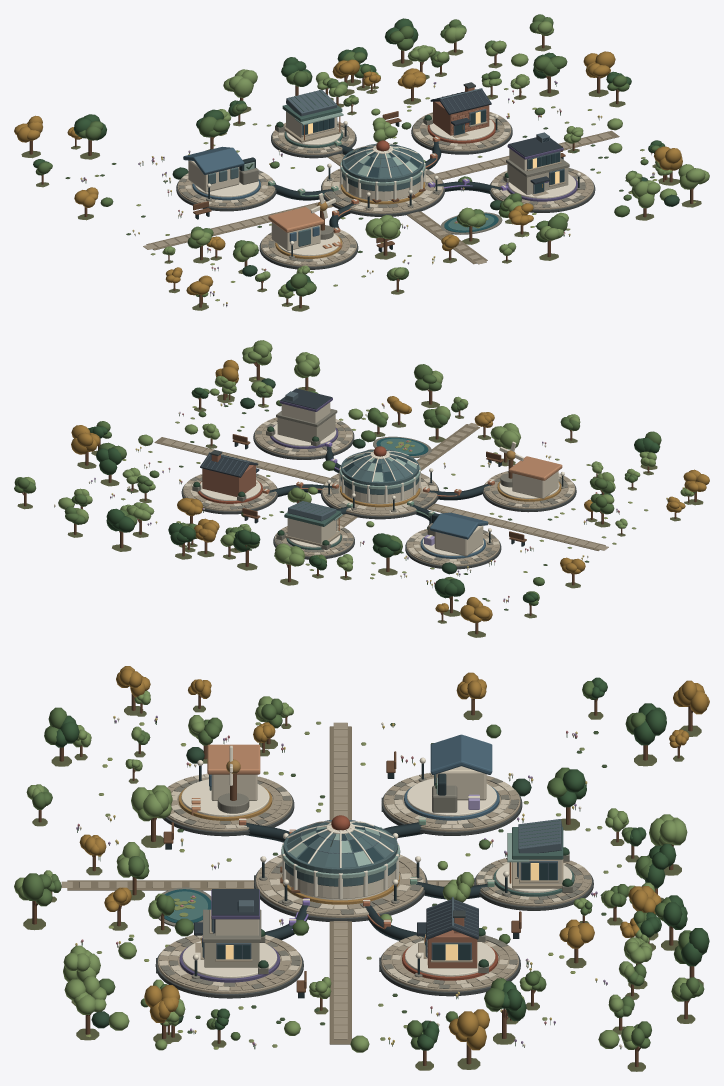
The model's file is task-hall-v2.glb.
3 renders of one model, top to bottom at view 1: azimuth 30°, elevation 25°; view 2: azimuth 150°, elevation 25°; view 3: azimuth 270°, elevation 25°, orthographic. The views are drawn at different scales.
Visible parts, largest first — view 1: Park • leaf3, Park • leaf2, Park • amber, Park • sediment, Park • leaf, Park • wood, Intake • glass, Park • path, Park • tile, Routes • rail, Verification • blue, Intake • tile (+28 smaller); view 2: Park • leaf3, Park • leaf2, Park • amber, Park • leaf, Park • sediment, Park • wood, Park • tile, Park • path, Intake • glass, Verification • cream, Verification • blue, Claude • brick (+21 smaller); view 3: Park • leaf3, Park • leaf2, Park • amber, Park • leaf, Park • sediment, Park • tile, Intake • glass, Park • path, Park • wood, Verification • blue, Intake • tile, Codex • tile (+38 smaller).
Part boxes in pixels (<box>): Park • leaf3: <box>162,21,709,298</box>; Park • leaf2: <box>35,14,659,296</box>; Park • amber: <box>14,51,682,295</box>; Park • sediment: <box>21,45,701,311</box>; Park • leaf: <box>33,18,665,306</box>; Park • wood: <box>29,35,694,308</box>; Intake • glass: <box>342,144,424,191</box>; Park • path: <box>146,130,619,264</box>; Park • tile: <box>143,133,611,264</box>; Routes • rail: <box>272,141,500,228</box>; Verification • blue: <box>183,146,260,200</box>; Intake • tile: <box>322,169,443,213</box>; Park • leaf3: <box>24,340,696,571</box>; Park • leaf2: <box>14,364,661,605</box>; Park • amber: <box>71,359,709,622</box>; Park • leaf: <box>54,387,667,602</box>; Park • sediment: <box>17,376,703,637</box>; Park • wood: <box>22,361,696,634</box>; Park • tile: <box>162,423,608,550</box>; Park • path: <box>154,424,605,550</box>; Intake • glass: <box>340,450,419,494</box>; Verification • cream: <box>408,525,498,564</box>; Verification • blue: <box>420,512,488,558</box>; Claude • brick: <box>202,454,255,496</box>; Park • leaf3: <box>14,690,687,1052</box>; Park • leaf2: <box>22,681,704,1049</box>; Park • amber: <box>79,666,709,1050</box>; Park • leaf: <box>55,677,709,1050</box>; Park • sediment: <box>23,705,703,1071</box>; Park • tile: <box>61,722,474,1039</box>; Intake • glass: <box>283,820,397,886</box>; Park • path: <box>67,726,450,1044</box>; Park • wood: <box>32,692,694,1066</box>; Verification • blue: <box>404,734,499,820</box>; Intake • tile: <box>255,854,425,917</box>; Codex • tile: <box>157,909,301,993</box>.
Size of what is drawn, in the model's own units: 24.19 by 2.25 by 19.08.
